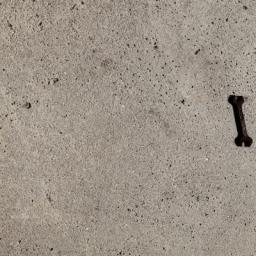FOD: (221, 92, 256, 151)
